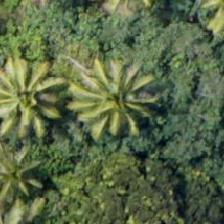coconut_tree: (80, 31, 170, 121), (0, 62, 60, 152)
